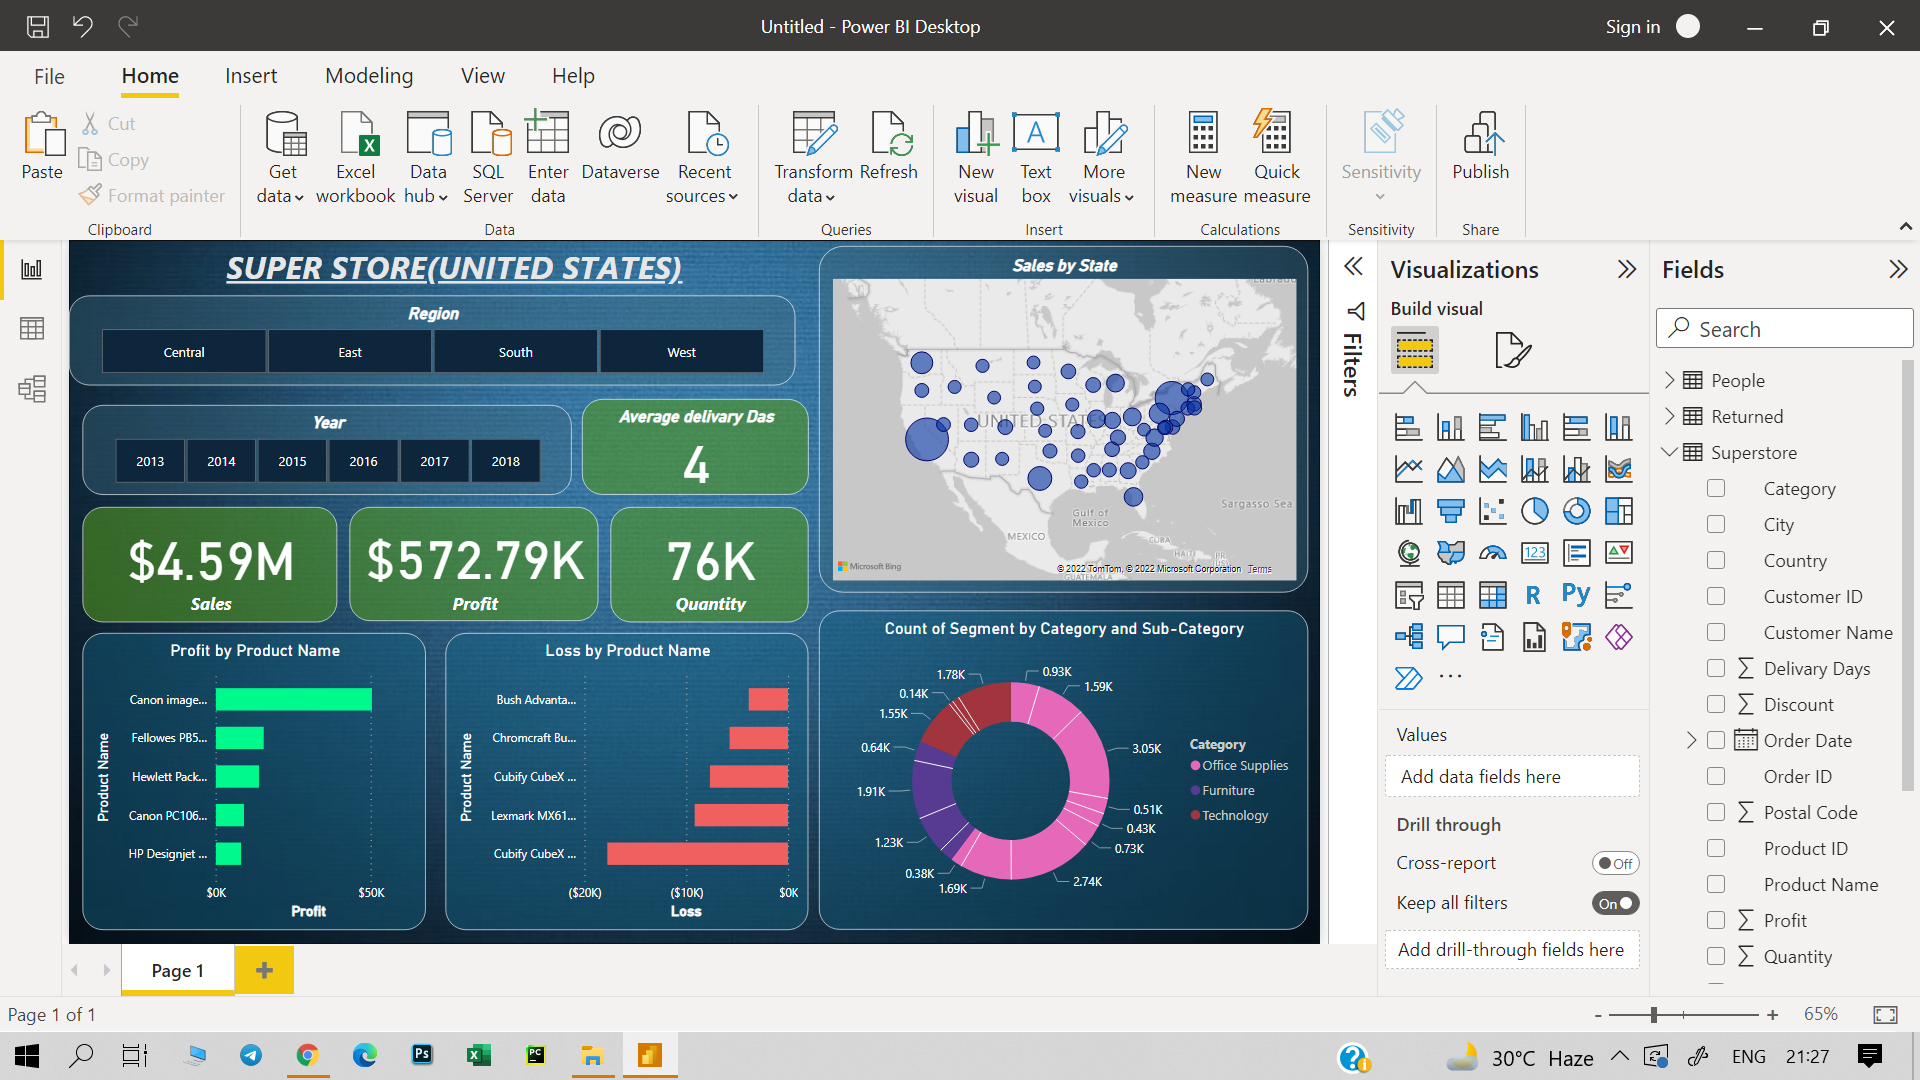

What the dashboard file says about the page in this screenshot:
{"tool":"powerbi","page":{"name":"Page 1","canvas":[1280,720],"ordinal":0},"visuals":[{"type":"slicer","title":"Region","fields":{"Values":["Superstore.Region"]},"box":[13.8,56.8,743,92.1],"z":0},{"type":"slicer","title":"Year","fields":{"Values":["Superstore.Year"]},"box":[13.8,168.9,500.5,92.1],"z":1000},{"type":"map","fields":{"Category":["Superstore.State"],"Size":["Sum(Superstore.Sales)"]},"box":[767.6,6.1,500.5,354.6],"z":1001},{"type":"card","fields":{"Values":["Sum(Superstore.Sales)"]},"box":[13.8,273.3,261,118.2],"z":1002},{"type":"card","fields":{"Values":["Sum(Superstore.Quantity)"]},"box":[554.2,273.3,202.6,118.2],"z":1003},{"type":"card","fields":{"Values":["Sum(Superstore.Profit)"]},"box":[287.1,273.3,254.8,116.7],"z":1005},{"type":"barChart","fields":{"Y":["Sum(Superstore.Profit)"],"Category":["Superstore.Product Name"]},"box":[13.8,402.2,351.6,304],"z":1006},{"type":"barChart","title":"Loss by Product Name","fields":{"Y":["Sum(Superstore.Profit)"],"Category":["Superstore.Product Name"]},"box":[385.3,402.2,371.5,304],"z":1007},{"type":"donutChart","fields":{"Category":["Superstore.Category"],"Y":["CountNonNull(Superstore.Segment)"],"Series":["Superstore.Sub-Category"]},"box":[767.6,379.2,500.5,327],"z":1008},{"type":"textbox","box":[144.3,0,500.5,56.8],"z":1009},{"type":"card","title":"Average delivary Das","fields":{"Values":["Avg(Superstore.Delivary Days)"]},"box":[525,162.7,231.8,98.3],"z":1010}]}

Visuals, with their boxes on the page's 1280x720 design canvas (x1, y1, x2, y2). These are canvas units, not pixel positions in the 1920x1080 screenshot, which may show the page scaled, cropped or inside an application window:
"Region" slicer: Rect(14, 57, 757, 149)
"Year" slicer: Rect(14, 169, 514, 261)
map - Superstore.State x Sum(Superstore.Sales): Rect(768, 6, 1268, 361)
card - Sum(Superstore.Sales): Rect(14, 273, 275, 392)
card - Sum(Superstore.Quantity): Rect(554, 273, 757, 392)
card - Sum(Superstore.Profit): Rect(287, 273, 542, 390)
barChart - Sum(Superstore.Profit) x Superstore.Product Name: Rect(14, 402, 365, 706)
"Loss by Product Name" barChart: Rect(385, 402, 757, 706)
donutChart - Superstore.Category x CountNonNull(Superstore.Segment): Rect(768, 379, 1268, 706)
textbox: Rect(144, 0, 645, 57)
"Average delivary Das" card: Rect(525, 163, 757, 261)
